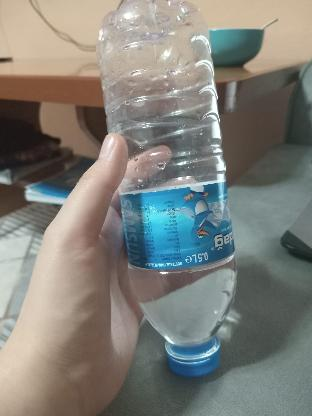Plastic Bottle: (94, 0, 238, 376)
